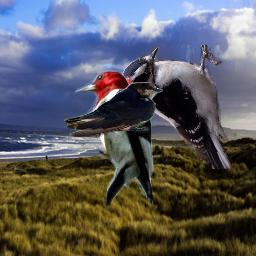Swallow: (64, 82, 163, 137)
Woodpecker: (119, 45, 233, 169), (74, 70, 155, 206)
